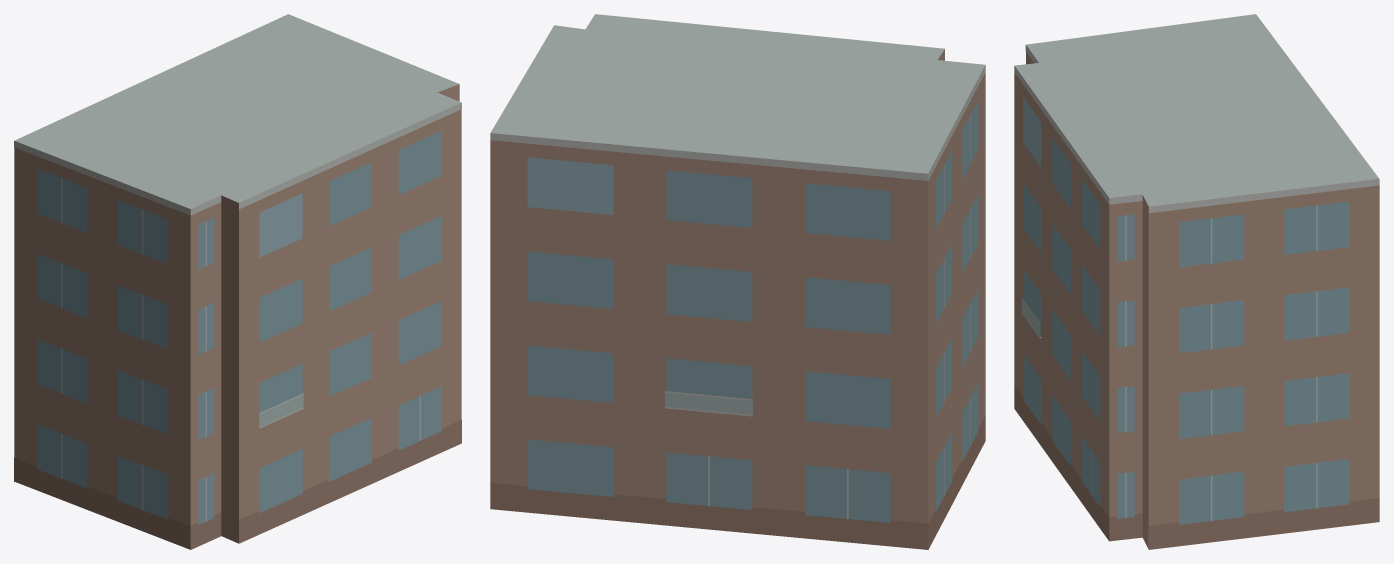
Rendered from survey-upis-32749593.glb.
3 views of the same model, side by side, from view 1: azimuth 30°, elevation 25°; view 2: azimuth 150°, elevation 25°; view 3: azimuth 270°, elevation 25° (orthographic). The views are drawn at different scales.
Visible parts, largest first — view 1: survey-upis-32749593.tmp; view 2: survey-upis-32749593.tmp; view 3: survey-upis-32749593.tmp.
Boxes of the visible parts, left/top/right/bottom form: survey-upis-32749593.tmp: left=14, top=14, right=461, bottom=549; survey-upis-32749593.tmp: left=490, top=14, right=985, bottom=549; survey-upis-32749593.tmp: left=1014, top=14, right=1379, bottom=549.
Bounding box in the file's own units: 15.43 × 12.8 × 12.35.
